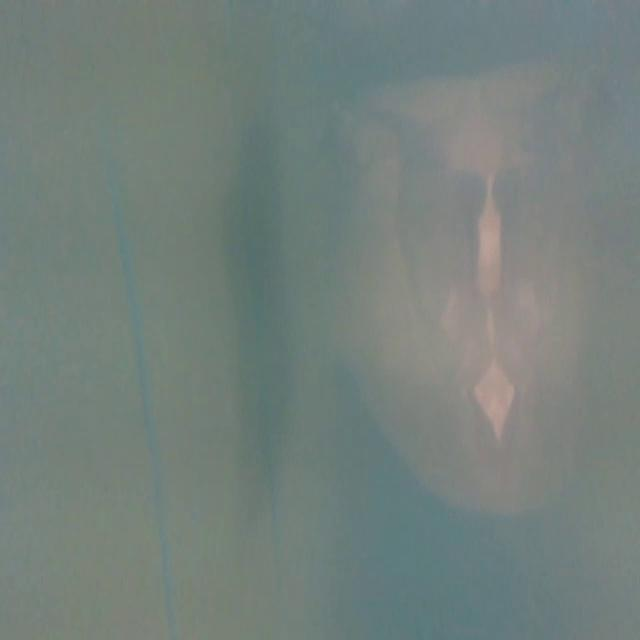plastic bags: (333, 80, 605, 524)
